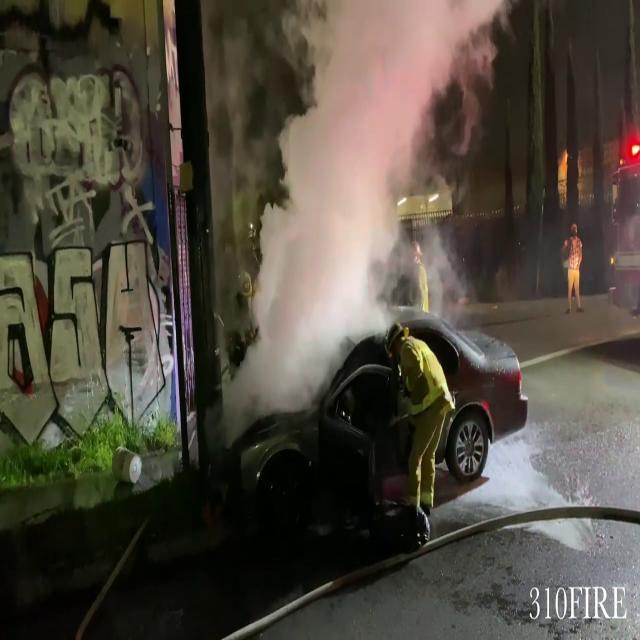Smoke: (207, 0, 499, 391)
